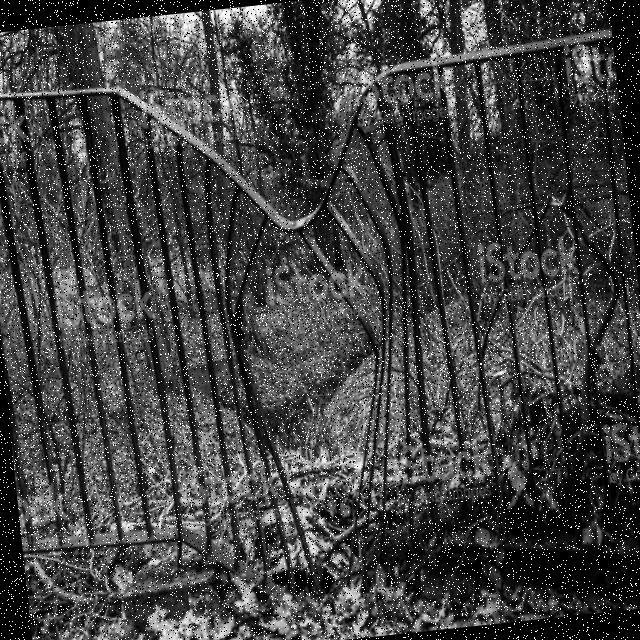fence line: (172, 63, 446, 634), (168, 64, 440, 621)
